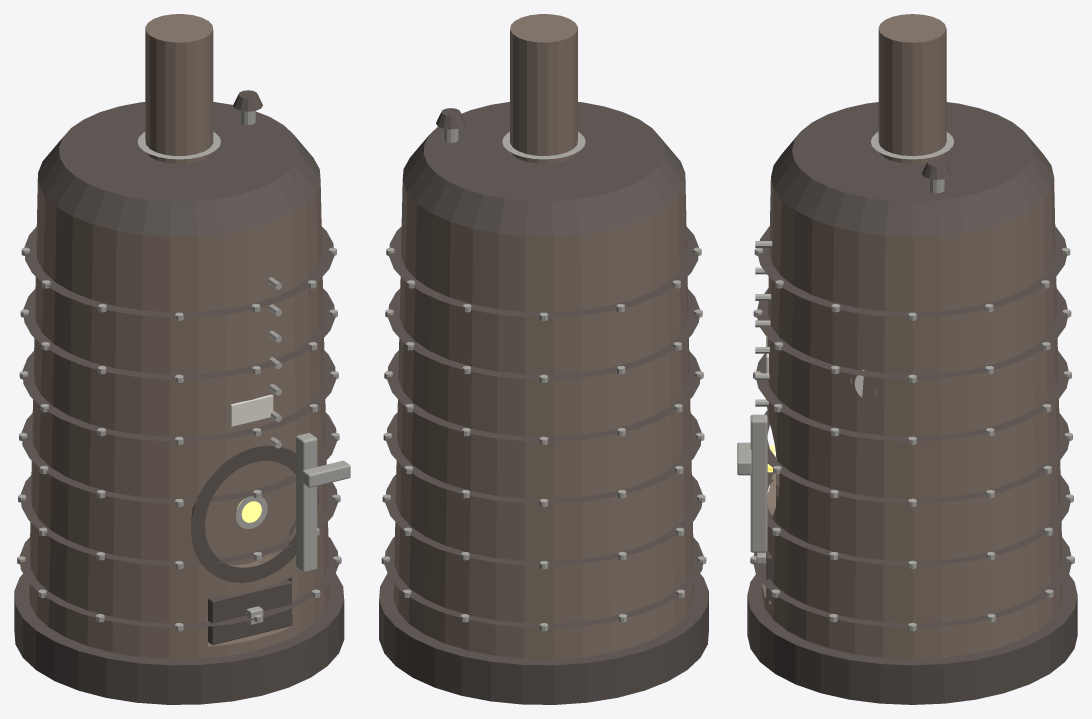
File: boiler_01.glb
3 views of the same model, side by side, from view 1: azimuth 30°, elevation 25°; view 2: azimuth 150°, elevation 25°; view 3: azimuth 270°, elevation 25° (orthographic).
Visible parts, largest first — view 1: boiler_01; view 2: boiler_01; view 3: boiler_01.
Boxes of the visible parts, x1,y1,x2,y2 form: boiler_01: (14,14,350,704); boiler_01: (379,14,708,704); boiler_01: (737,14,1077,704).
Bounding box in the file's own units: 1.36 × 2.75 × 1.4.
